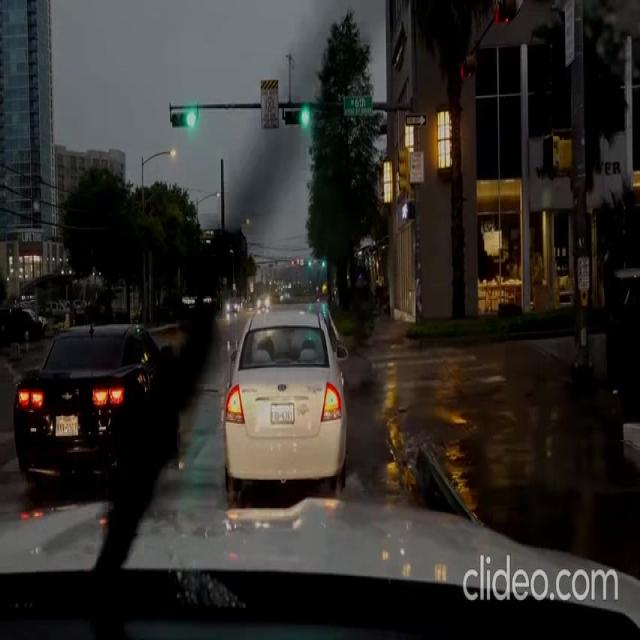Car: (11, 317, 169, 489), (221, 306, 347, 496), (0, 301, 47, 335)
